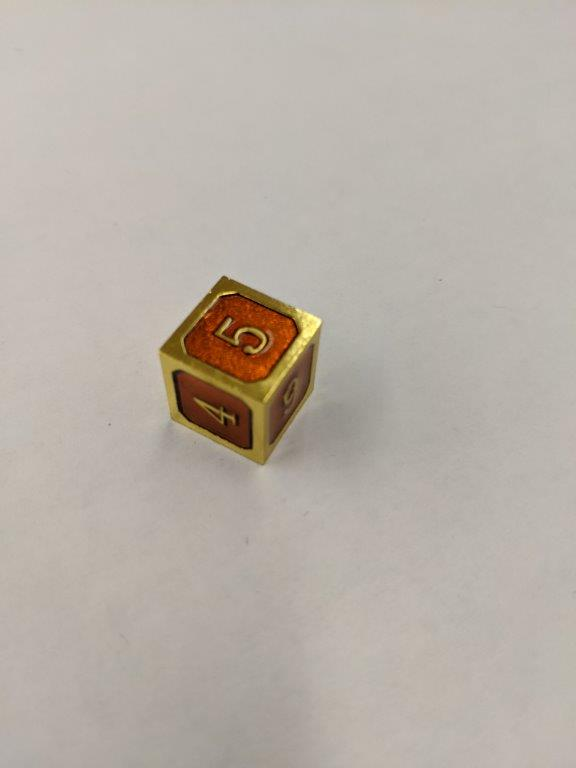d6-5: (158, 272, 322, 465)
